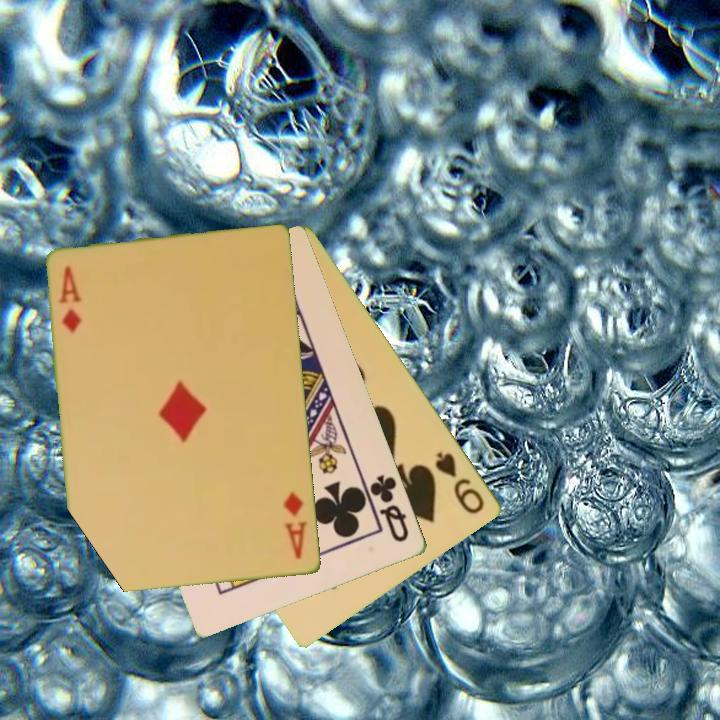9s: (432, 448, 488, 517)
Ad: (280, 489, 311, 563), (56, 263, 85, 337)
Qc: (361, 471, 413, 546)
